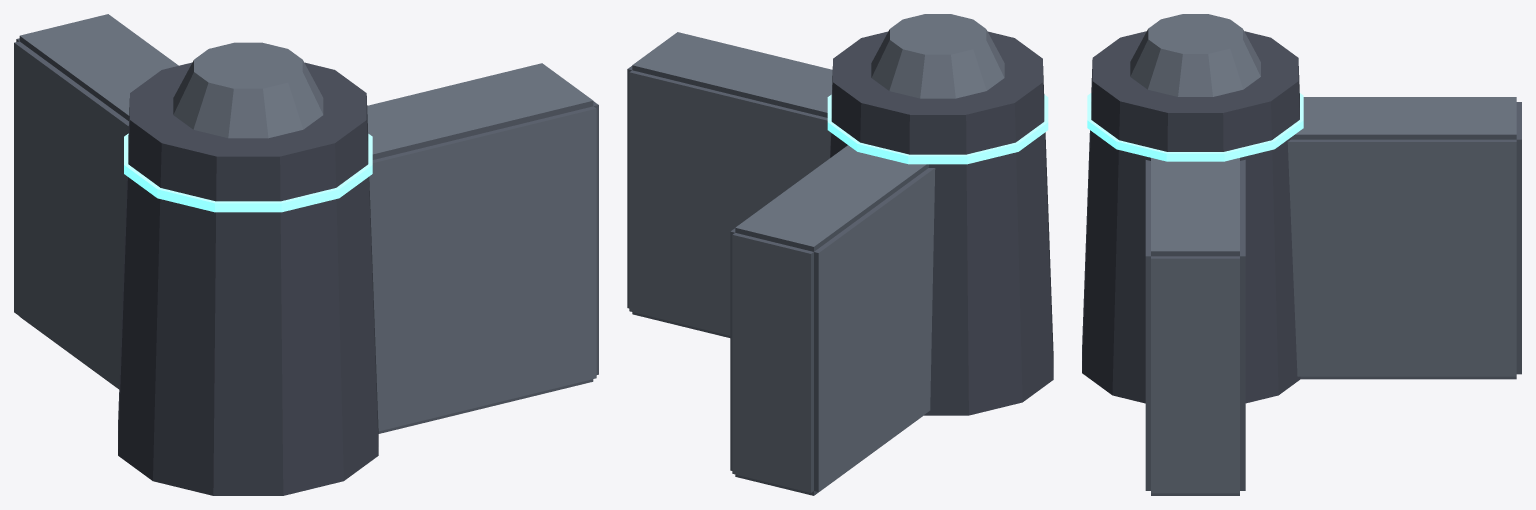
Rendered from TILE_WallCorner.glb.
3 renders of one model, left to right at view 1: azimuth 30°, elevation 25°; view 2: azimuth 150°, elevation 25°; view 3: azimuth 270°, elevation 25°, orthographic. The views are drawn at different scales.
Parts seen in each view (by area): view 1: TILE_WallCorner; view 2: TILE_WallCorner; view 3: TILE_WallCorner.
Boxes of the visible parts, x1,y1,x2,y2 form: TILE_WallCorner: (14,14,598,495); TILE_WallCorner: (627,14,1053,495); TILE_WallCorner: (1082,14,1521,495).
Size of the model in its own units: 4.04 by 3.31 by 4.04.
